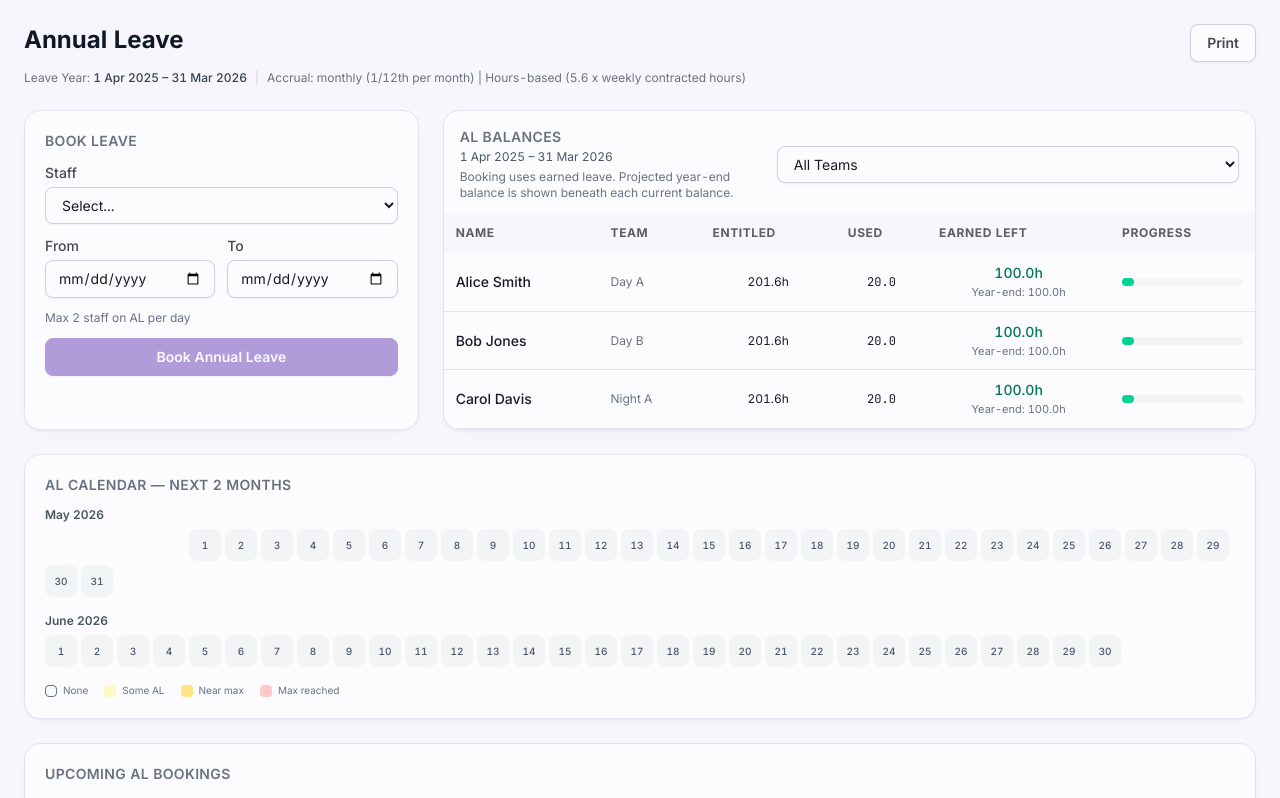
it: AnnualLeave › shows inline validation when the leave end date is before the start date
The image size is (1280, 798).
Check: the heading "Book Leave" is shown, box [45, 132, 137, 149]
Select "Alice Smith (Day A) — 100.0h earned left" in the dropdown labelled "Staff" at (221, 206), box [45, 187, 398, 224]
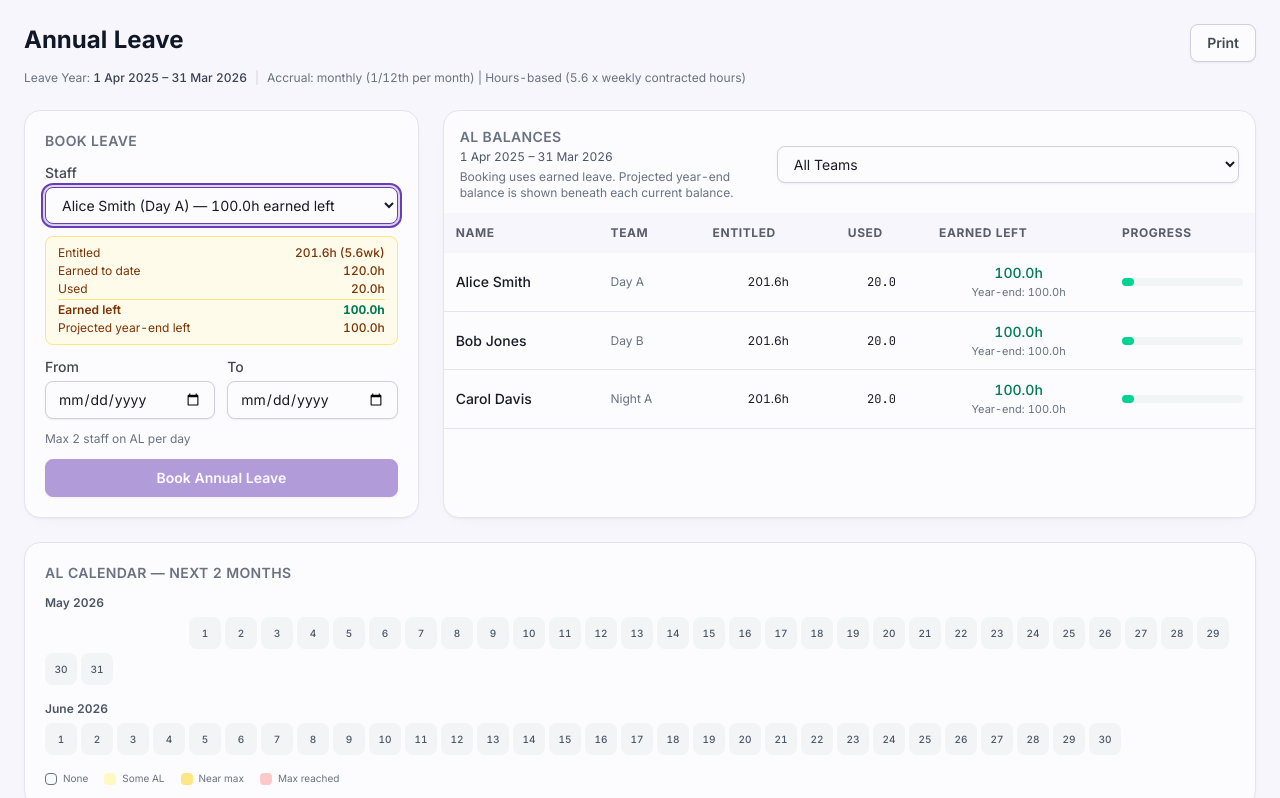
Type "2026-03-12" into the date field labelled "From".
click(130, 400); type("2026-03-12")  # box [45, 381, 215, 419]
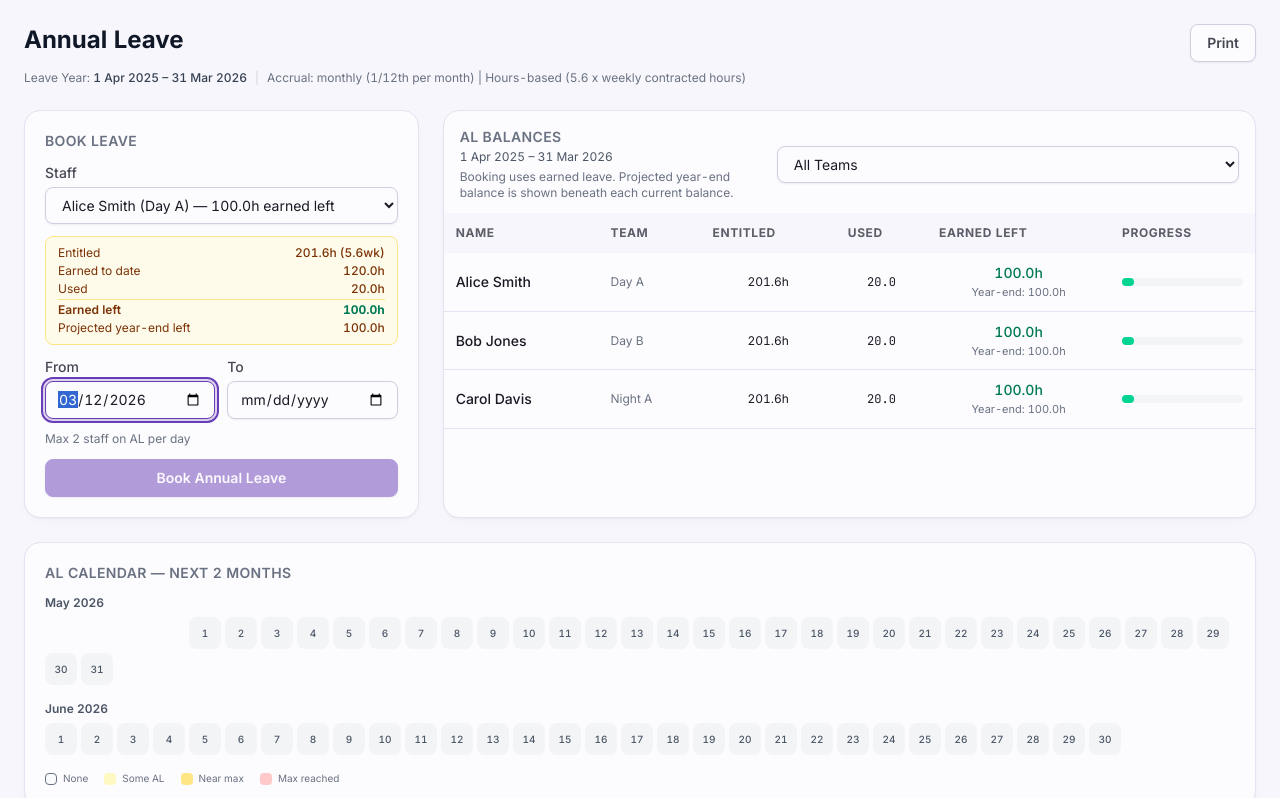
Type "2026-03-10" into the date field labelled "To".
click(312, 400); type("2026-03-10")  # box [227, 381, 398, 419]
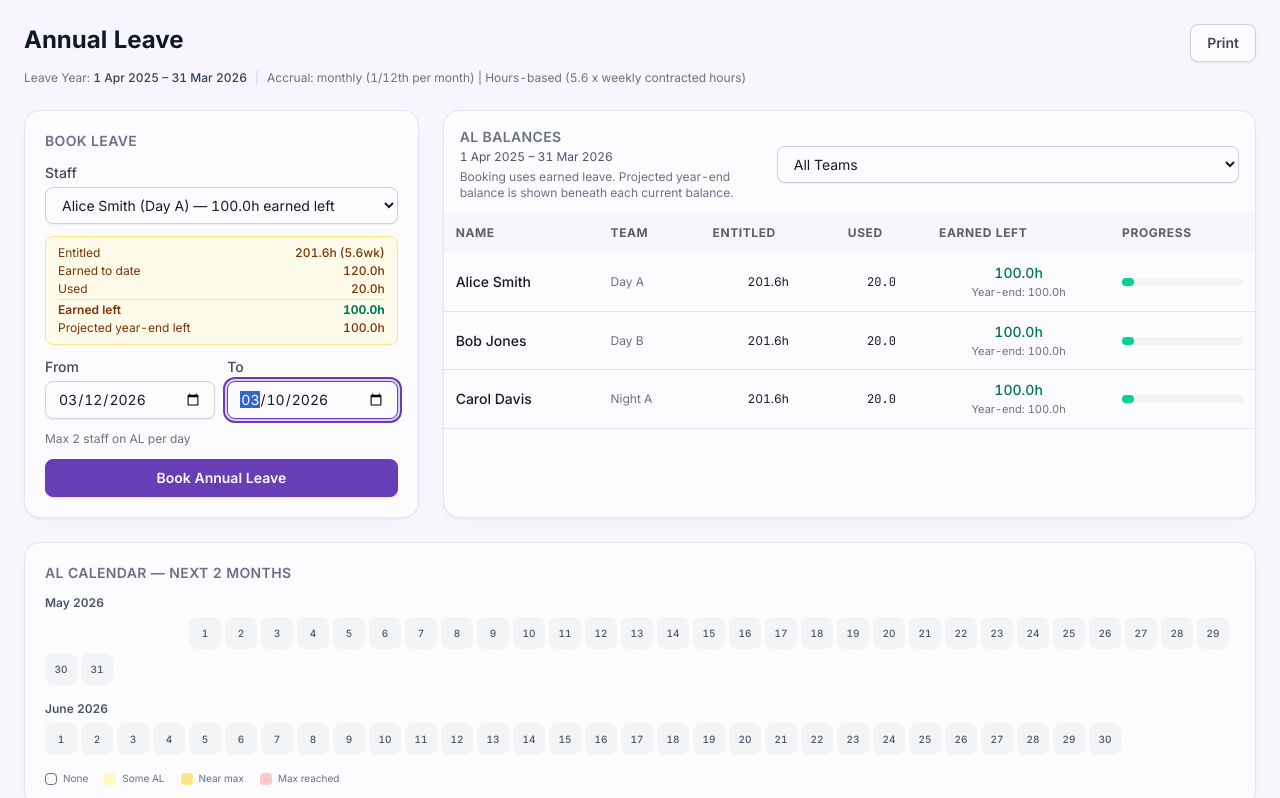
Click the button "Book Annual Leave".
click(221, 478)  # box [45, 459, 398, 497]
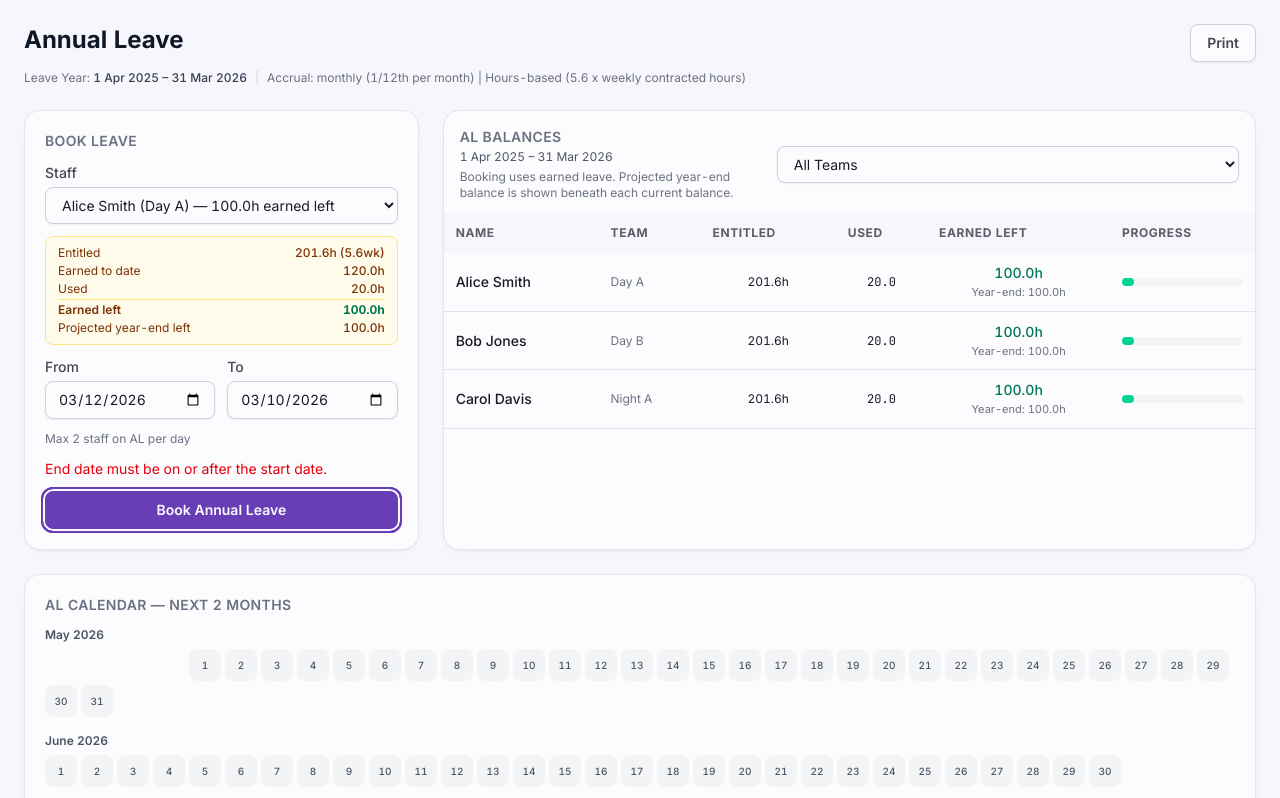
Check: the text "End date must be on or after the start date." is shown, box [45, 460, 327, 477]
